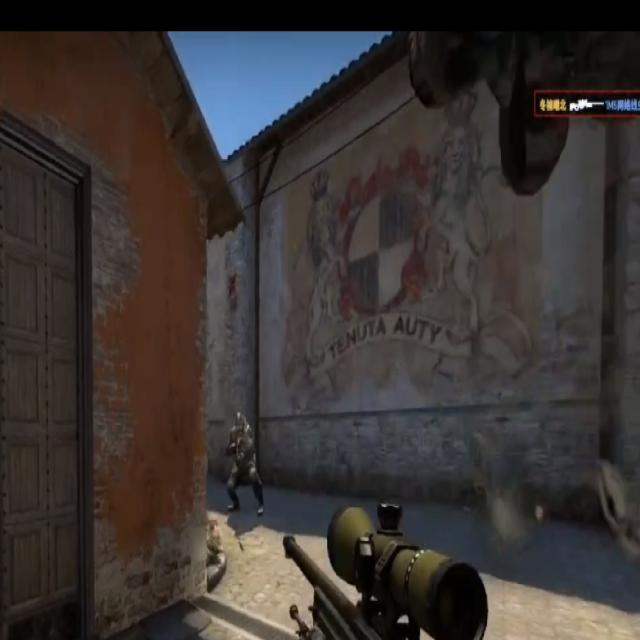person: (224, 411, 265, 516)
